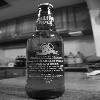beer: (27, 3, 73, 100)
